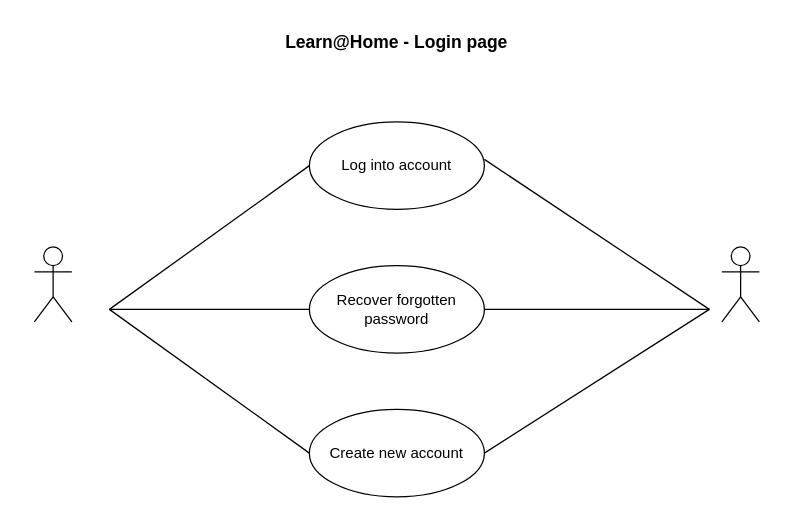
Some shapes in this 788 by 519 pixel diagram are drawn without their labels. The centre of each missing label's shape, as x and y in pixels:
"Student" belongs at [740,284].
"Volunteer" belongs at [52,284].
